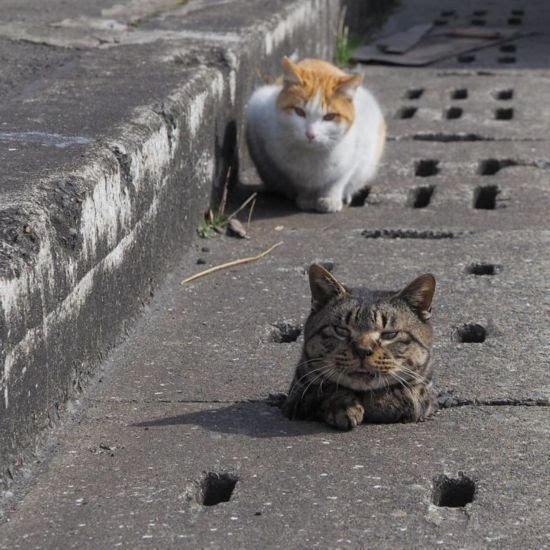cat: (282, 263, 439, 431), (244, 58, 385, 212)
